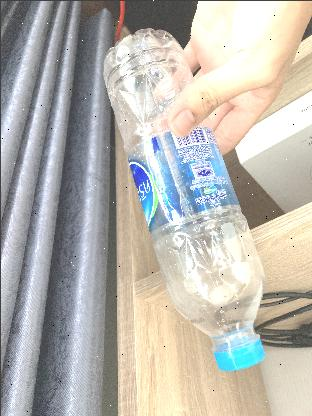Plastic Bottle: (98, 25, 270, 374)
